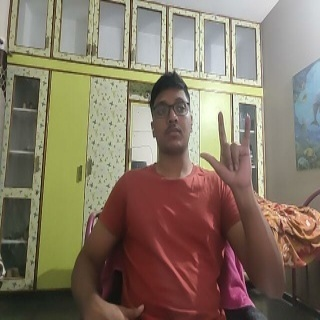Face: (149, 71, 195, 156)
I Love You: (199, 108, 254, 191)
